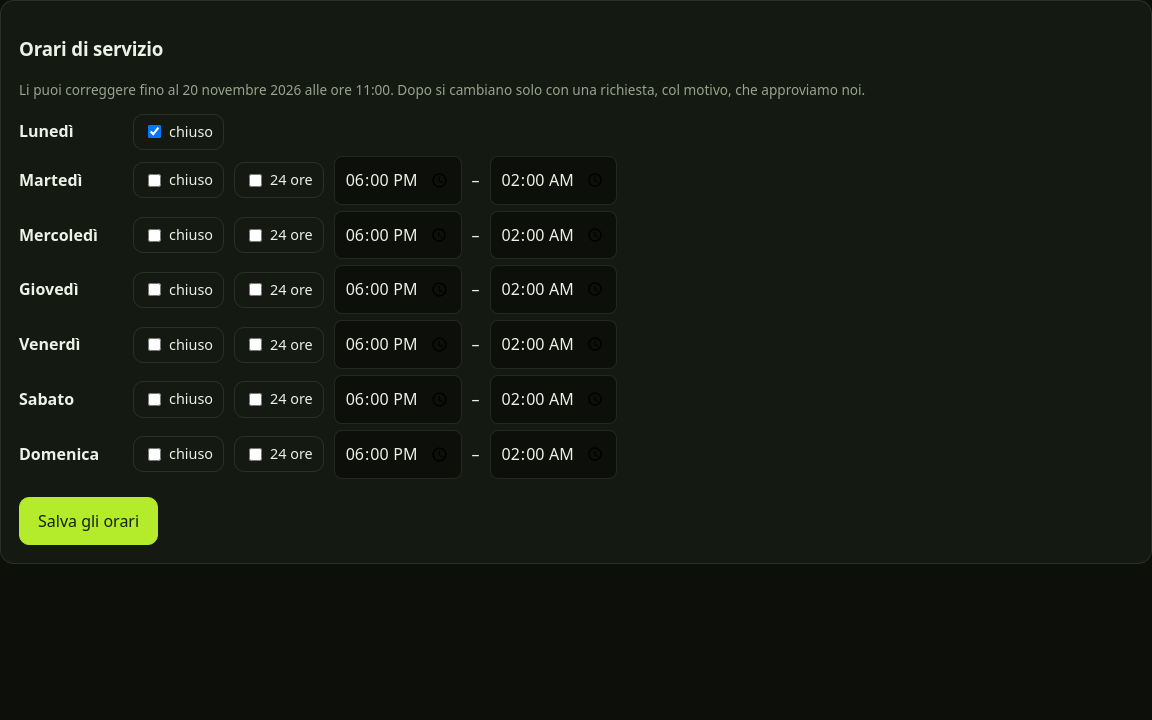
Test case: nell’area del titolare › l’errore della regia si legge
This screenshot has width=1152, height=720.
Click the button "Salva gli orari" at (89, 521), box [19,497,158,546]
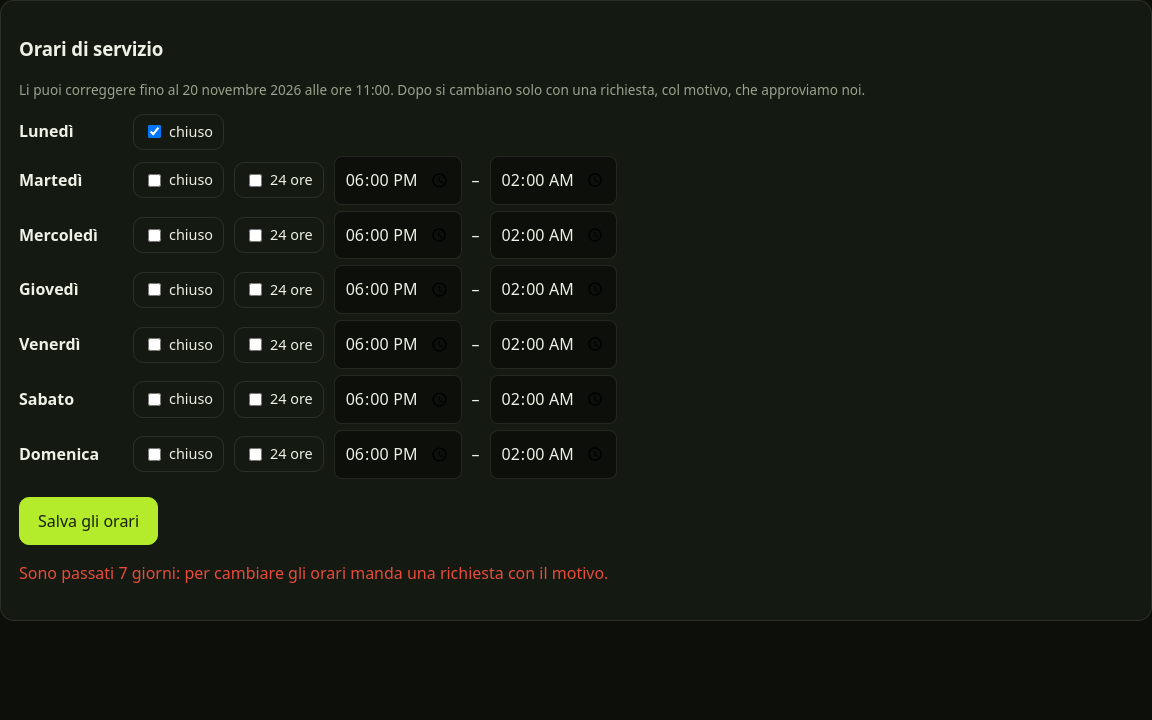
Expected: the text "Sono passati 7 giorni" is shown, [19,562,608,584]
